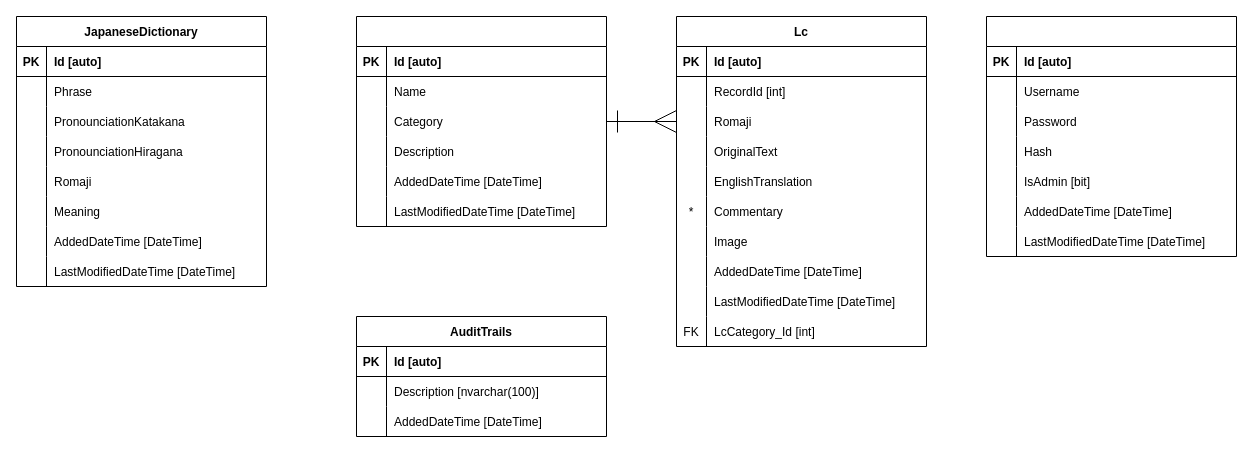
Image size: 1253x453. Some labels were removed from this diagram. The box of each missing label's shape, as (x1, y1, x2, y2) in pixels:
LcCategory: (356, 16, 606, 226)
Login: (986, 16, 1236, 256)
